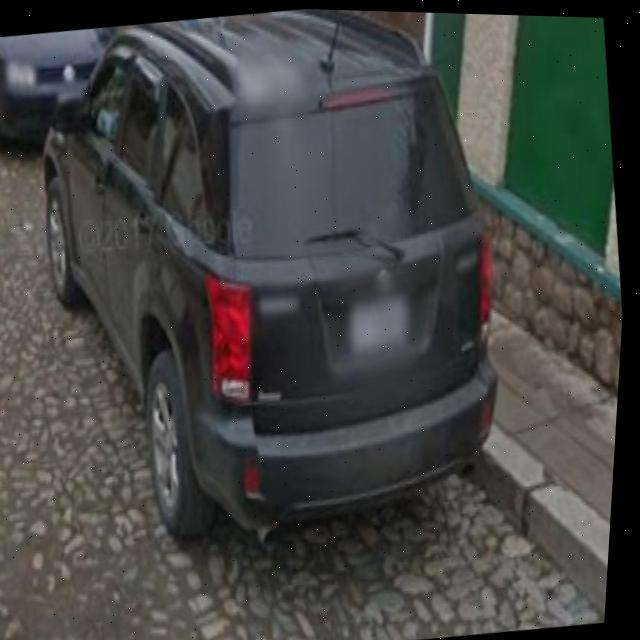vehicle: (0, 0, 555, 578), (19, 1, 550, 530)
